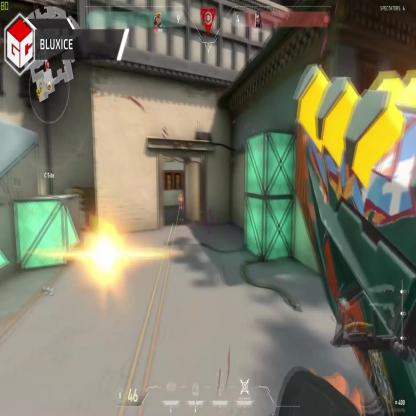enemy: (178, 196, 183, 224)
enemy_head: (180, 196, 183, 202)
